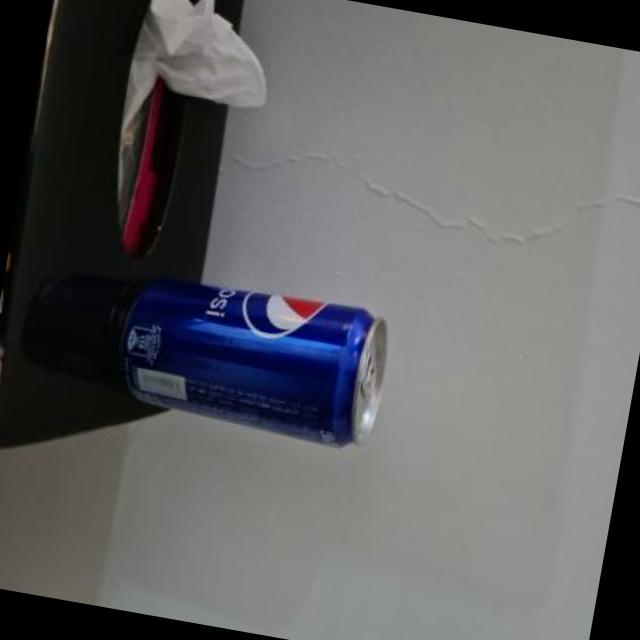cardboard paper: (123, 0, 264, 128)
metal: (123, 278, 388, 444)
